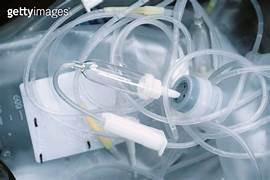Iv_Bottle: (171, 75, 239, 117), (190, 13, 210, 50)
